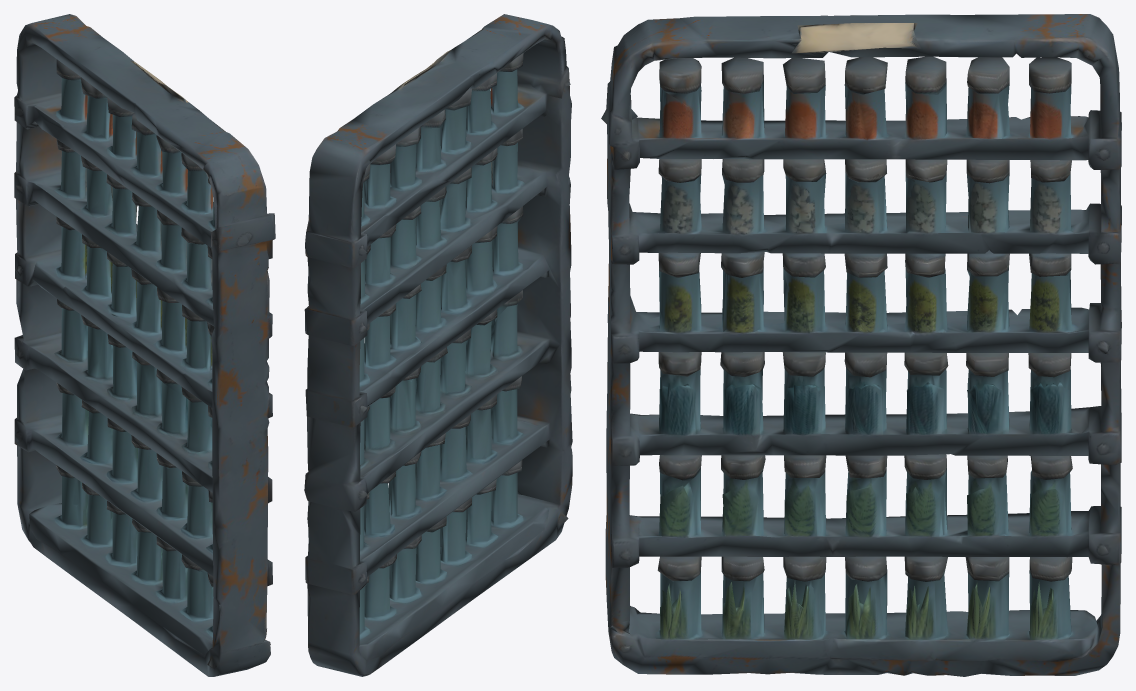
Rendered from vials.glb.
3 renders of one model, left to right at view 1: azimuth 30°, elevation 25°; view 2: azimuth 150°, elevation 25°; view 3: azimuth 270°, elevation 25°, orthographic. The views are drawn at different scales.
Visible parts, largest first — view 1: tripo_node_2dd0c49b-83f5-4869-bae3-aa2040b683ba; view 2: tripo_node_2dd0c49b-83f5-4869-bae3-aa2040b683ba; view 3: tripo_node_2dd0c49b-83f5-4869-bae3-aa2040b683ba.
Boxes of the visible parts, box(x1,y1,x2,y2) form: tripo_node_2dd0c49b-83f5-4869-bae3-aa2040b683ba: box(14, 14, 275, 676); tripo_node_2dd0c49b-83f5-4869-bae3-aa2040b683ba: box(304, 14, 572, 676); tripo_node_2dd0c49b-83f5-4869-bae3-aa2040b683ba: box(601, 14, 1121, 676).
Bounding box in the file's own units: 0.0756 × 0.6 × 0.4376.
1 material, 1 textured.
